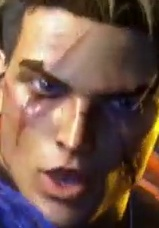kevin: (3, 16, 158, 218)
